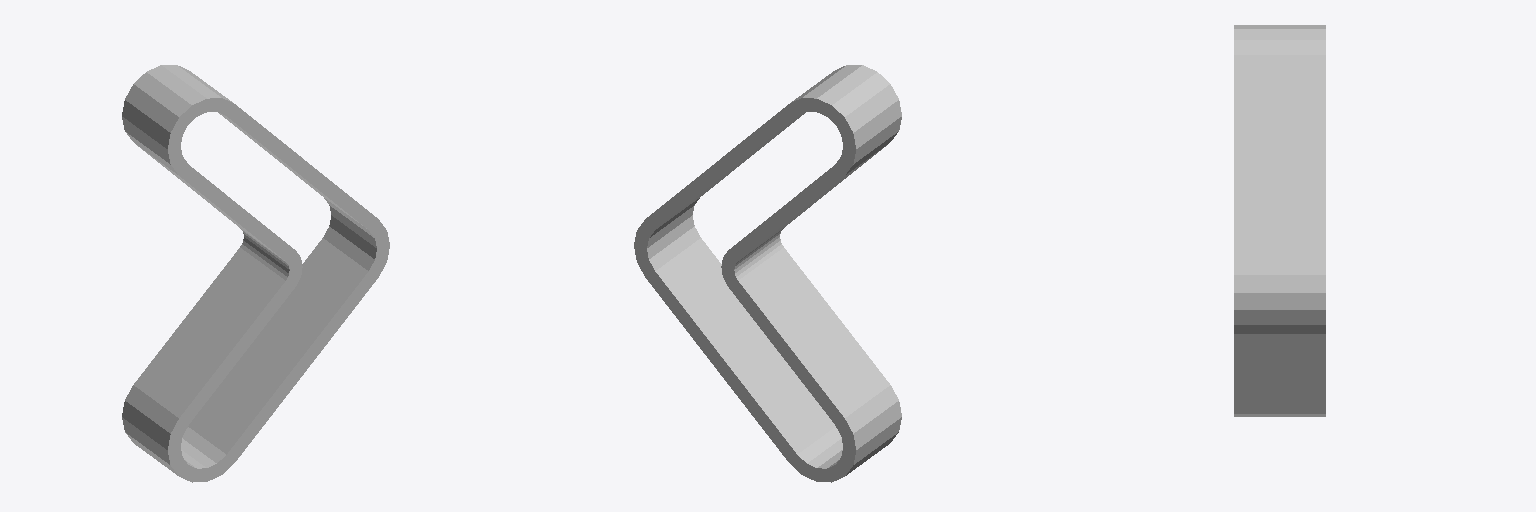
File: Arrow_20.obj
3 views of the same model, side by side, from view 1: azimuth 30°, elevation 25°; view 2: azimuth 150°, elevation 25°; view 3: azimuth 270°, elevation 25° (orthographic).
Visible parts, largest first — view 1: Arrow_20; view 2: Arrow_20; view 3: Arrow_20.
Boxes of the visible parts, x1=… form: Arrow_20: x1=122, y1=65, x2=389, y2=482; Arrow_20: x1=634, y1=65, x2=901, y2=482; Arrow_20: x1=1234, y1=25, x2=1325, y2=416.
Size of the model in its own units: 2.39 by 3.93 by 0.852.